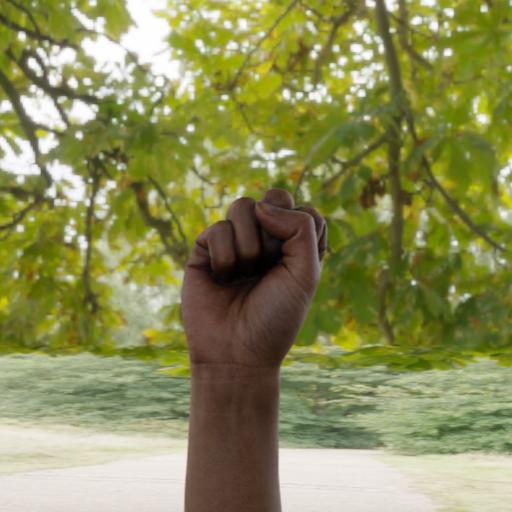S: (176, 187, 330, 368)
